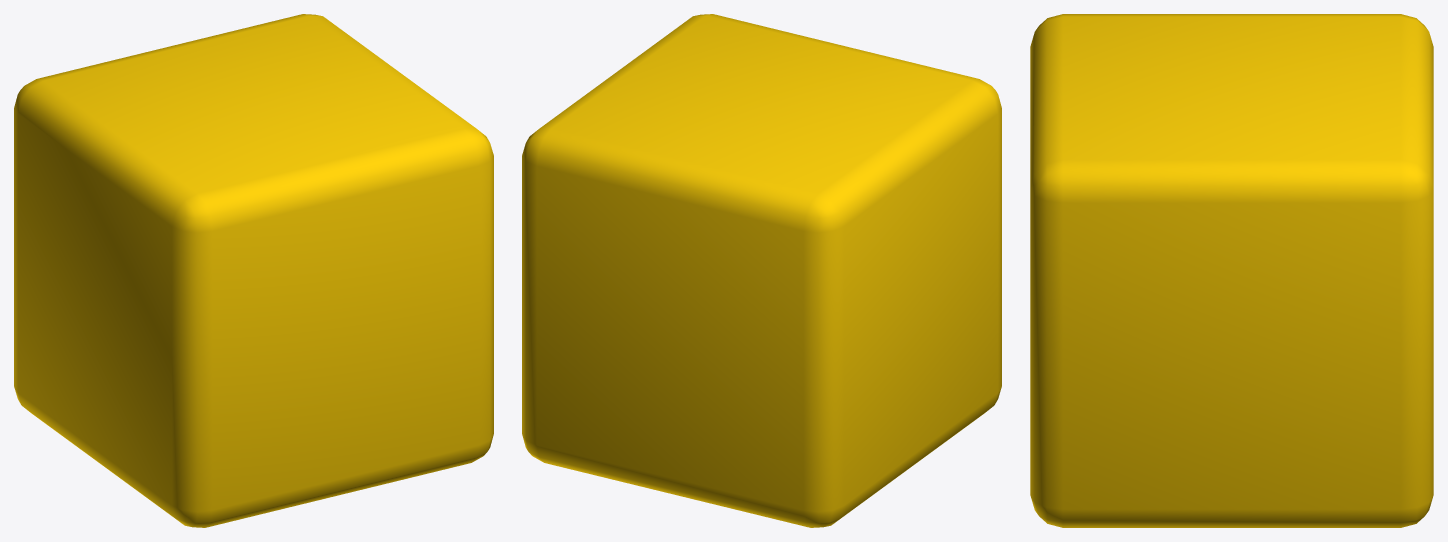
Rendered from CubeYellow.fbx.
3 renders of one model, left to right at view 1: azimuth 30°, elevation 25°; view 2: azimuth 150°, elevation 25°; view 3: azimuth 270°, elevation 25°, orthographic. The views are drawn at different scales.
Visible parts, largest first — view 1: CubeYellow; view 2: CubeYellow; view 3: CubeYellow.
Boxes of the visible parts, x1,y1,x2,y2 form: CubeYellow: (14, 14, 493, 527); CubeYellow: (522, 14, 1001, 527); CubeYellow: (1030, 14, 1433, 527).
Size of the model in its own units: 100 by 100 by 100.
